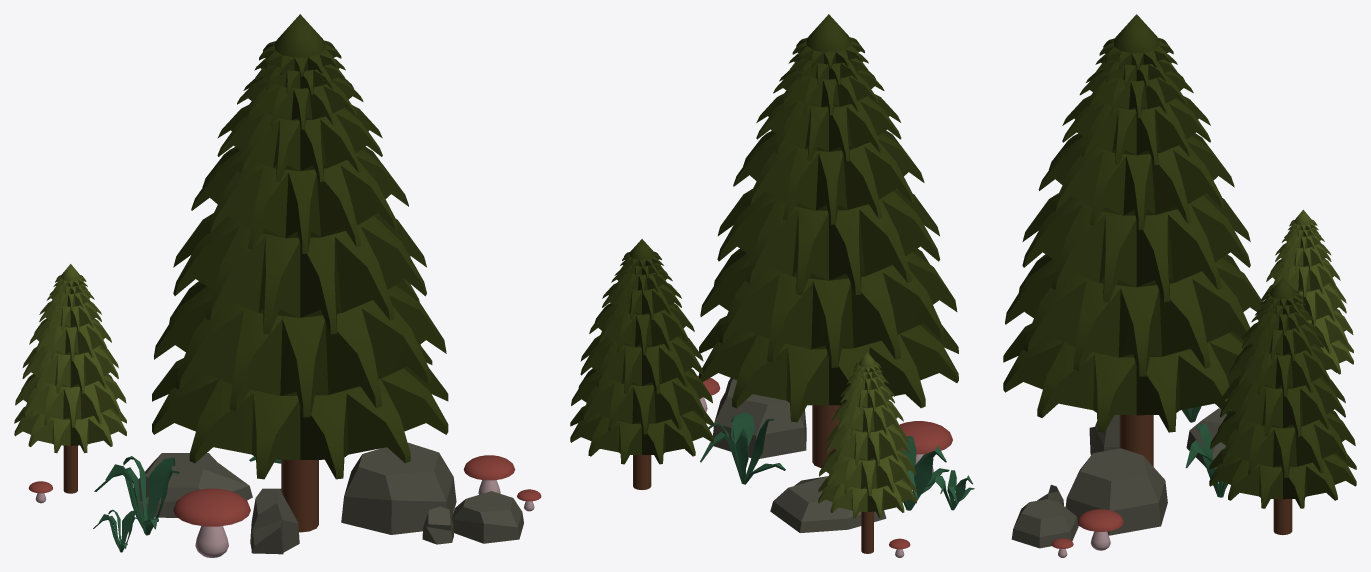
File: set_pineBig_20210129.fbx
3 views of the same model, side by side, from view 1: azimuth 30°, elevation 25°; view 2: azimuth 150°, elevation 25°; view 3: azimuth 270°, elevation 25° (orthographic). The views are drawn at different scales.
Visible parts, largest first — view 1: fern.011; view 2: fern.011; view 3: fern.011.
Part boxes in pixels (x1=…): fern.011: x1=14, y1=14, x2=541, y2=557; fern.011: x1=570, y1=14, x2=974, y2=557; fern.011: x1=1003, y1=14, x2=1356, y2=557.
Bounding box in the file's own units: 4.69 × 5.93 × 4.11.
